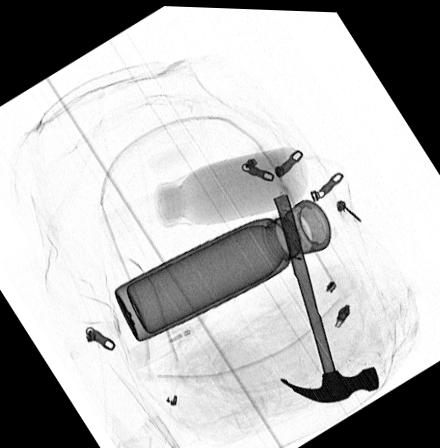Hammer: (272, 189, 380, 400)
